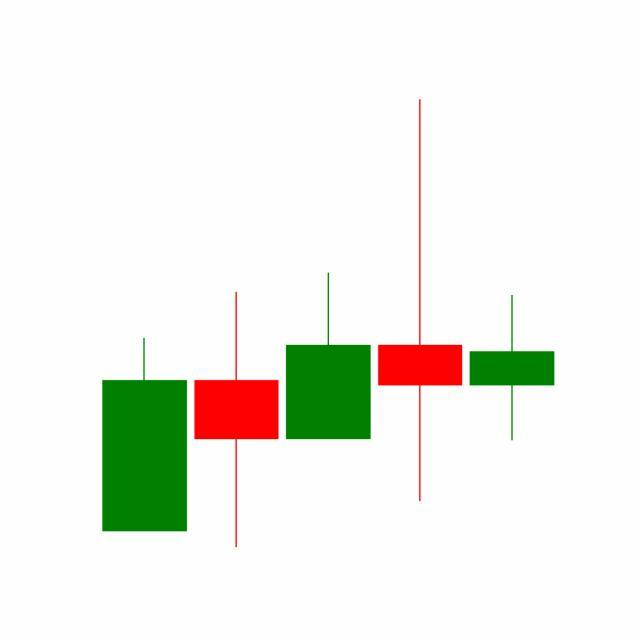Spinning Top: (466, 294, 559, 443)
